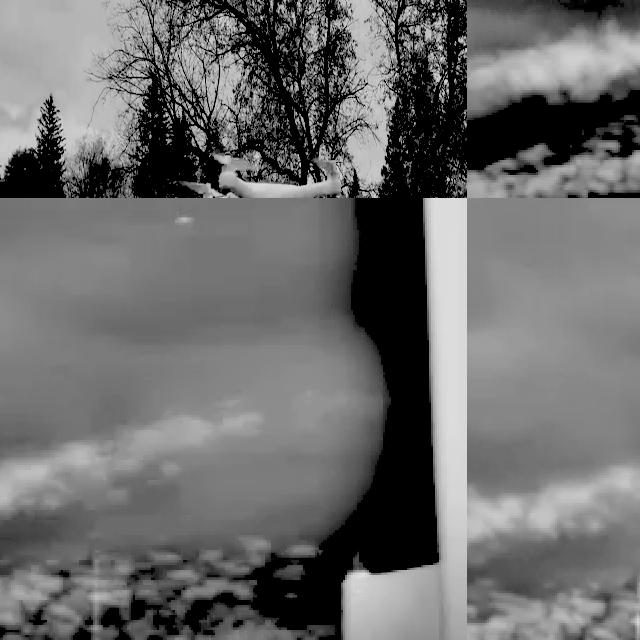0: (169, 210, 207, 235)
drone: (202, 153, 341, 198)
